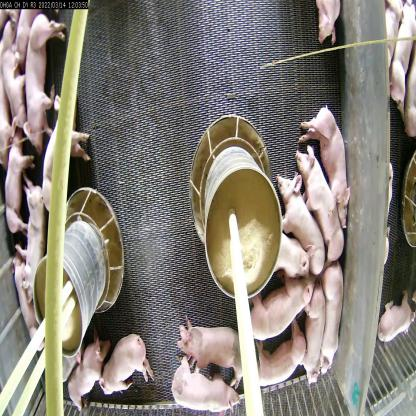Pig: (38, 83, 94, 216), (297, 92, 352, 226), (21, 6, 70, 150), (294, 138, 346, 268), (272, 164, 324, 284), (174, 303, 244, 387), (241, 269, 316, 337), (93, 327, 159, 396), (17, 162, 49, 302), (170, 354, 241, 416), (63, 328, 113, 413), (248, 318, 308, 384), (66, 329, 114, 408), (319, 254, 344, 378), (3, 124, 30, 235), (301, 277, 328, 384), (378, 276, 413, 338), (309, 0, 340, 57)
